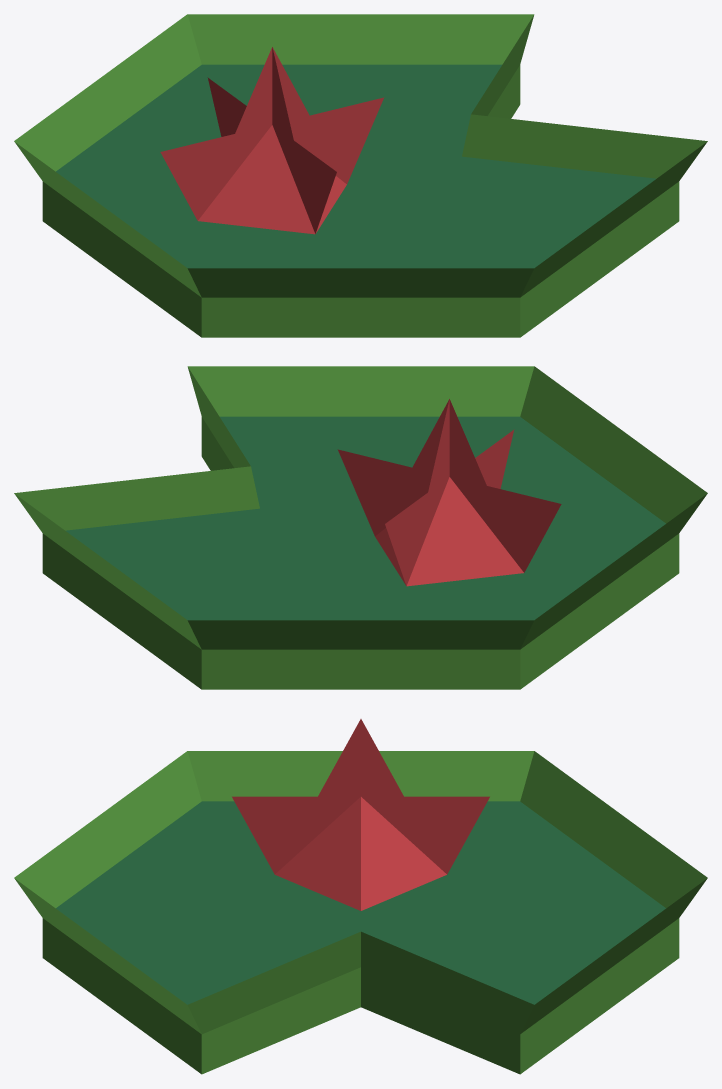
Rendered from lily_large.glb.
3 renders of one model, top to bottom at view 1: azimuth 30°, elevation 25°; view 2: azimuth 150°, elevation 25°; view 3: azimuth 270°, elevation 25°, orthographic.
Visible parts, largest first — view 1: lily_large; view 2: lily_large; view 3: lily_large.
Part boxes in pixels (bbox=[...]): lily_large: bbox=[14, 14, 707, 337]; lily_large: bbox=[14, 366, 707, 689]; lily_large: bbox=[14, 719, 707, 1074].
Size of the model in its own units: 0.2719 by 0.098 by 0.3139.
